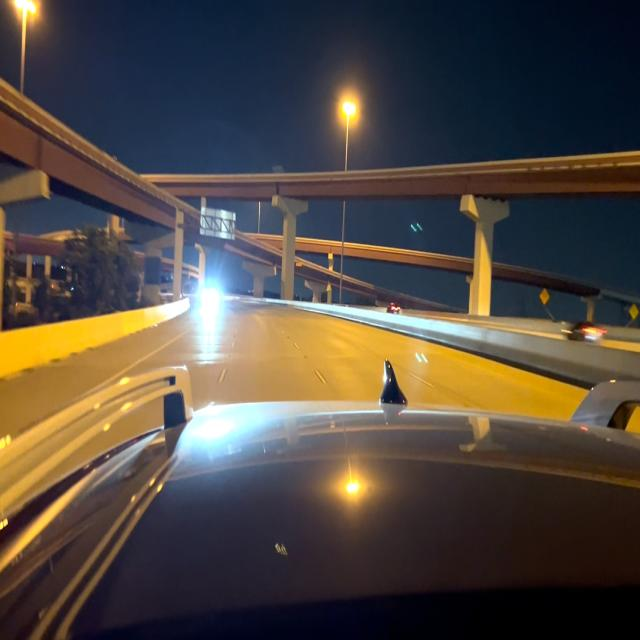back-of-sign: (201, 209, 237, 239)
